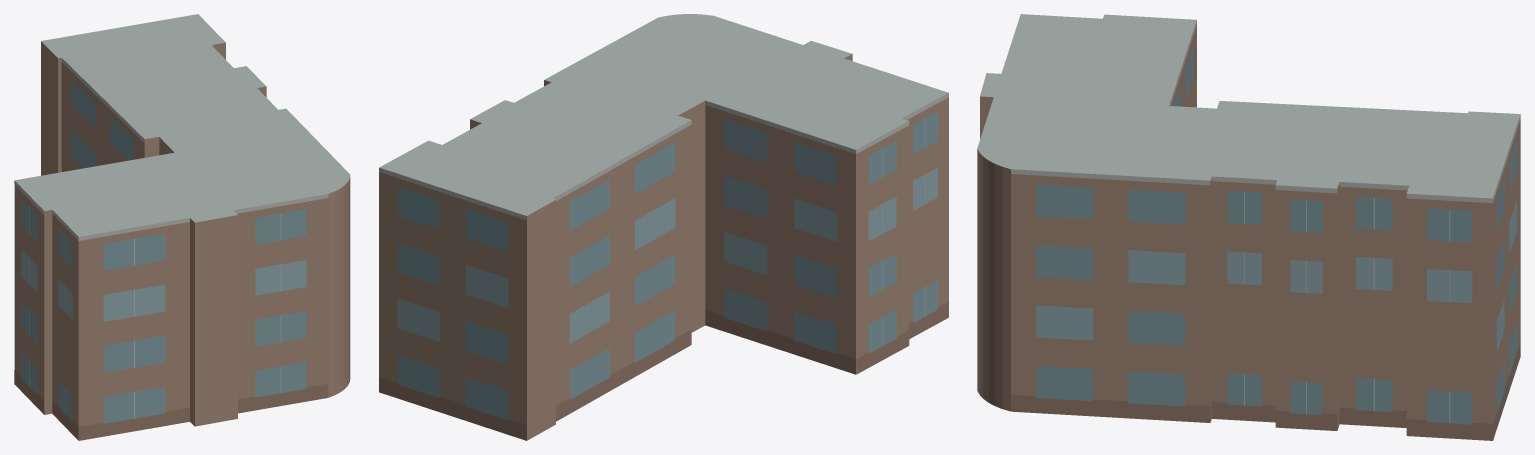
File: survey-upis-32871212.glb
The picture shows the model from 3 angles, left to right: view 1: azimuth 30°, elevation 25°; view 2: azimuth 150°, elevation 25°; view 3: azimuth 270°, elevation 25°; orthographic projection. The views are drawn at different scales.
Visible parts, largest first — view 1: survey-upis-32871212.tmp; view 2: survey-upis-32871212.tmp; view 3: survey-upis-32871212.tmp.
Boxes of the visible parts, box(x1,y1,x2,y2) form: survey-upis-32871212.tmp: box(14, 14, 350, 440); survey-upis-32871212.tmp: box(379, 14, 948, 440); survey-upis-32871212.tmp: box(977, 14, 1520, 440).
Bounding box in the file's own units: 20.26 × 12.4 × 25.21.
